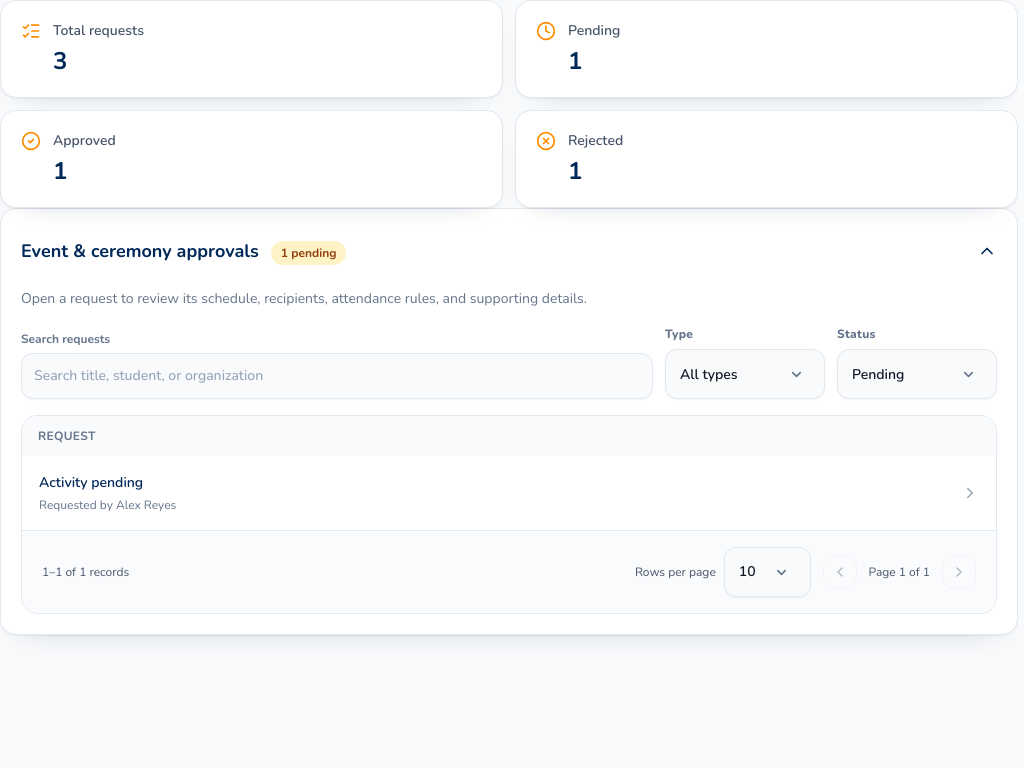
keeps activity statistics across statuses while searching the pending queue
The width and height of the screenshot is (1024, 768).
In the field labelled "Search requests": (337, 376) [21,353,653,399], type "no matching activity"
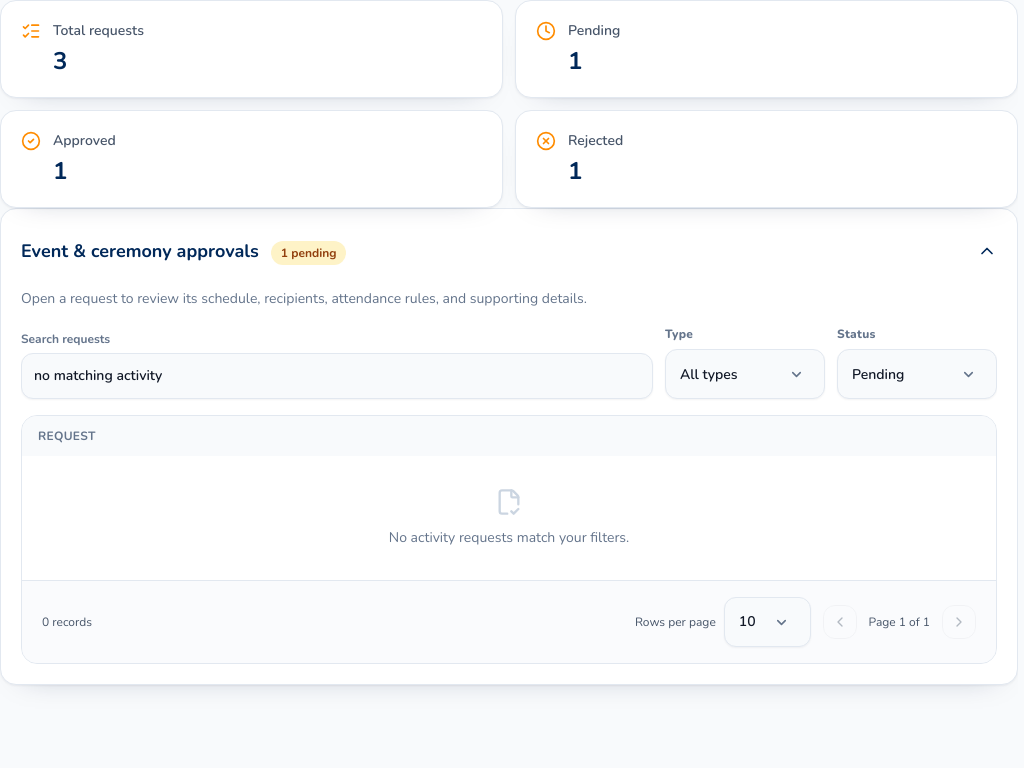
Expected: the text "No activity requests match your filters." is shown, [389,528,629,547]
